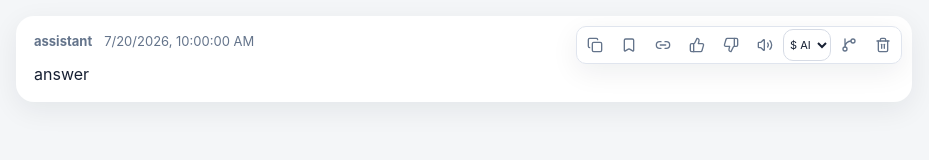
Test: MessageList › message feedback › clicking thumbs down when unrated opens a reason popover instead of rating immediately
Click the button named "Rate this answer bad".
click(731, 45)  # box 715,29 -> 747,61
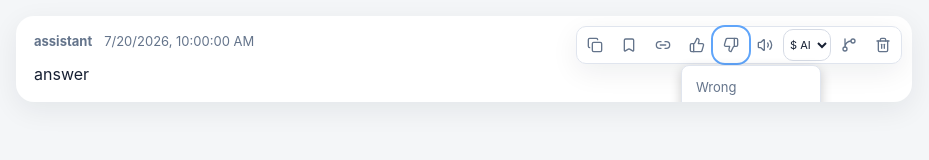
Check: the menu item "Wrong" is shown, box 688,72 -> 814,104
